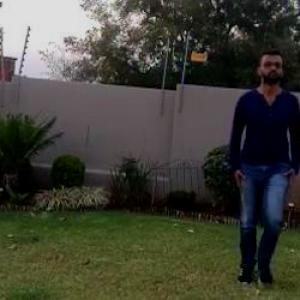follow: (211, 38, 299, 296)
